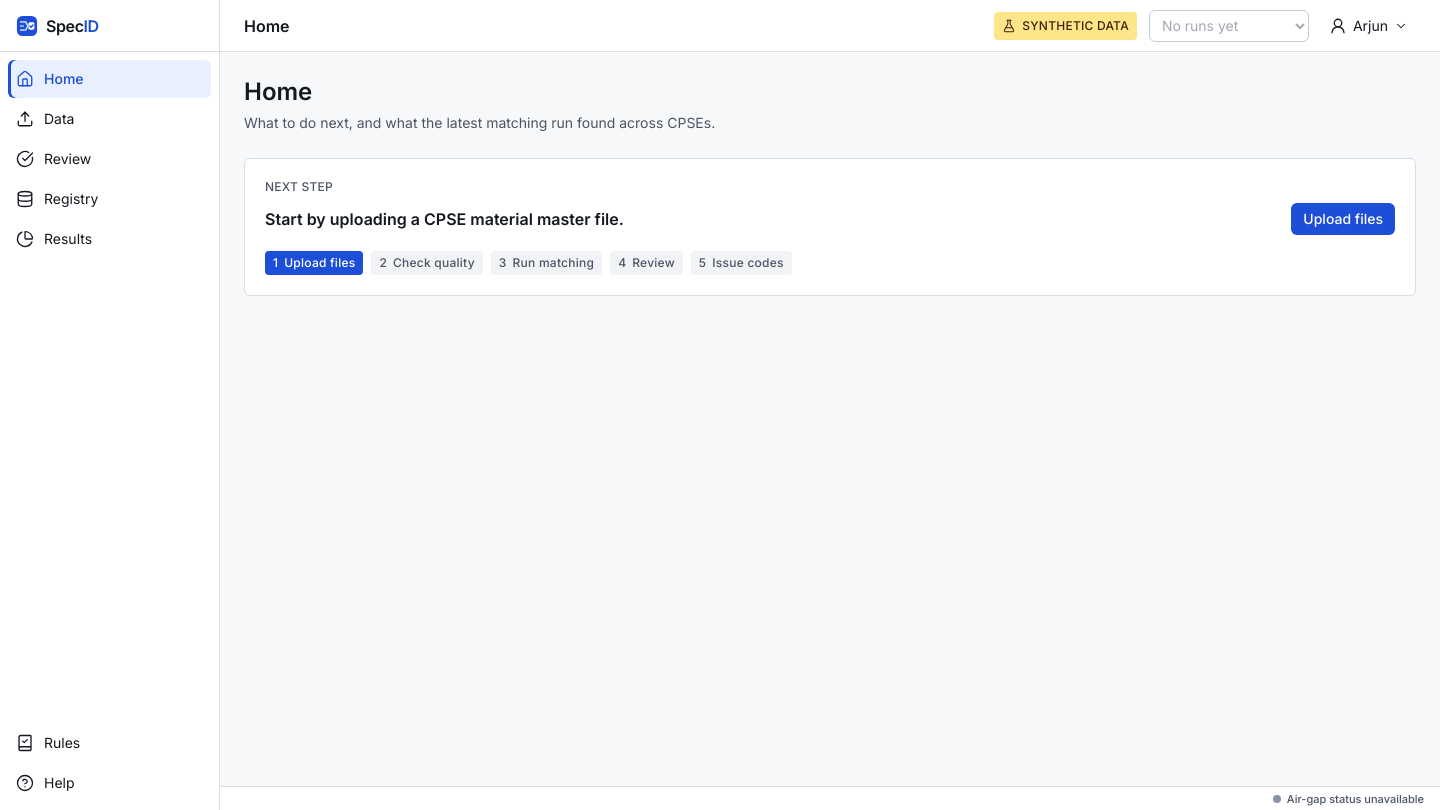
user menu (App Flow 3.3) › Change password opens a dialog that can be cancelled
The image size is (1440, 810).
Press Enter in the button "Arjun", box [1321,10,1416,42]
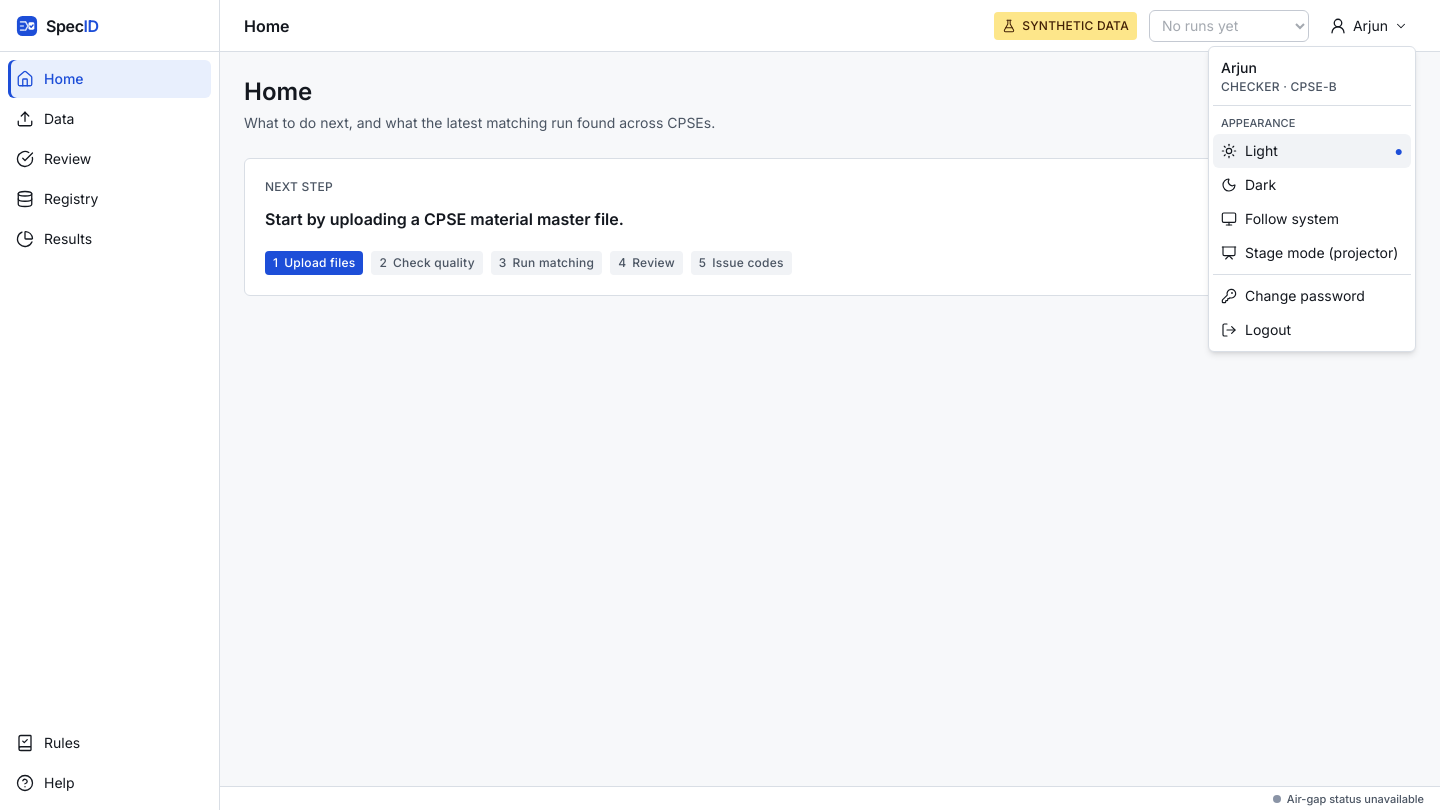
Click the menu item "Change password" at [1293, 296], box [1221,287,1365,304]
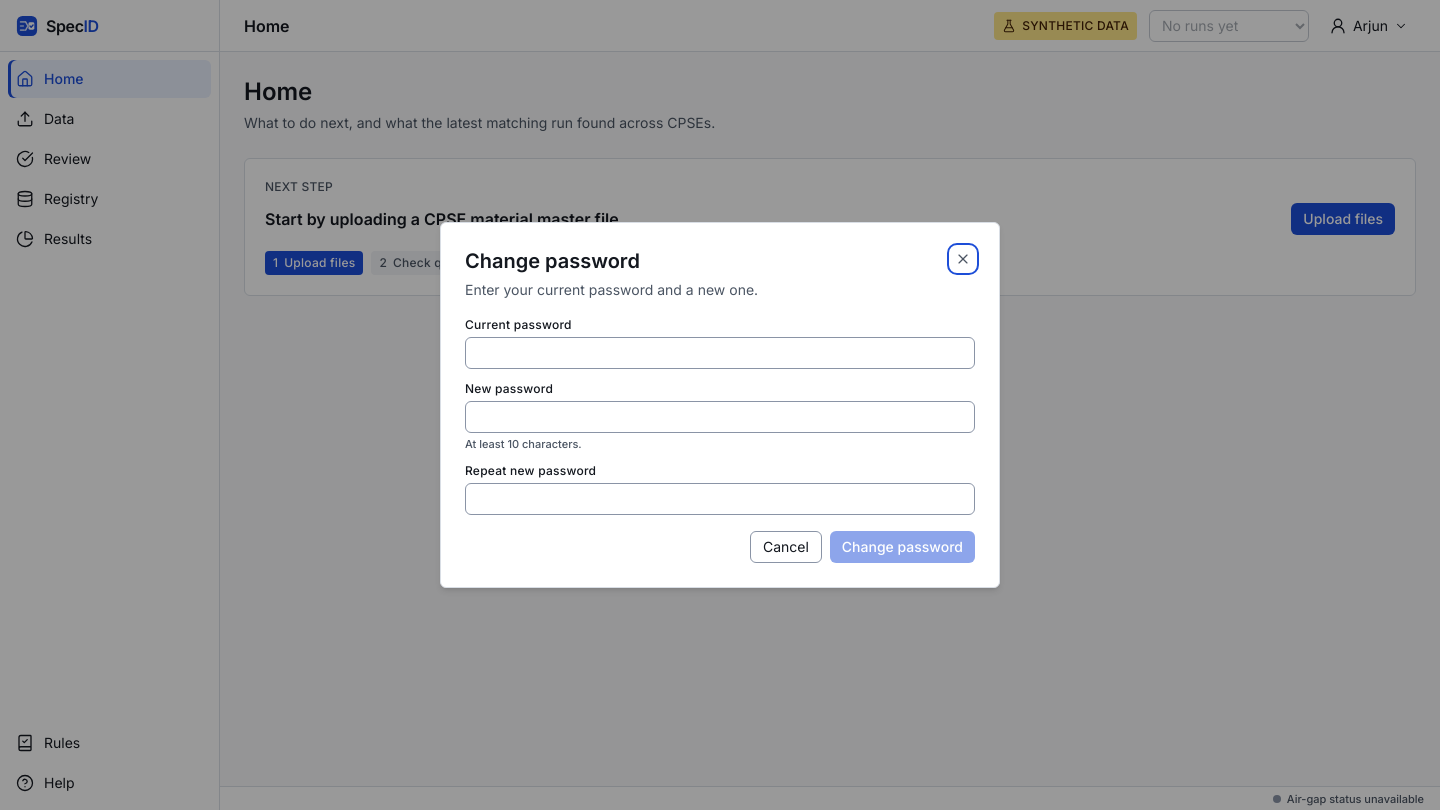
Click the button "Cancel" at [786, 547], box [750,531,822,563]
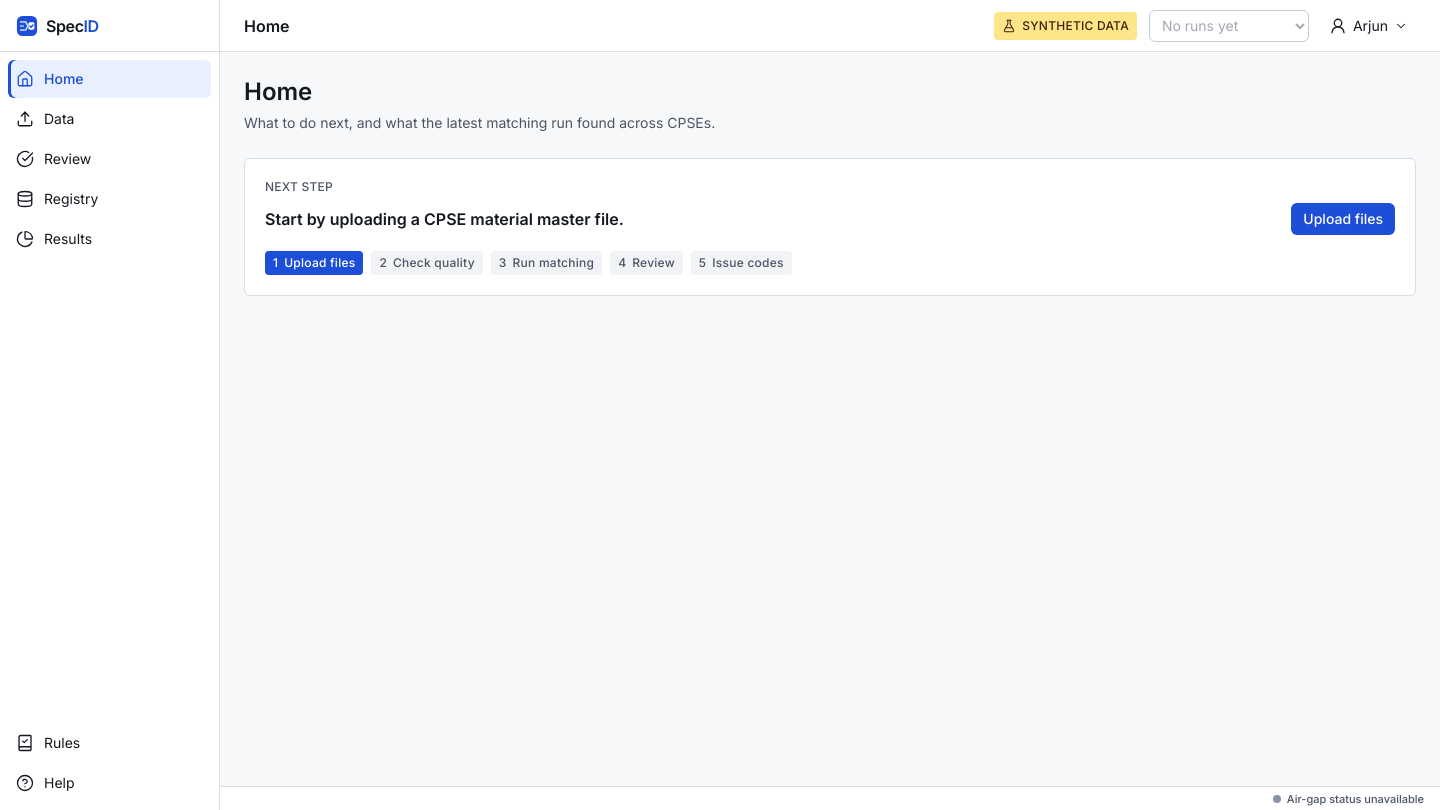
Check: the dialog is gone
